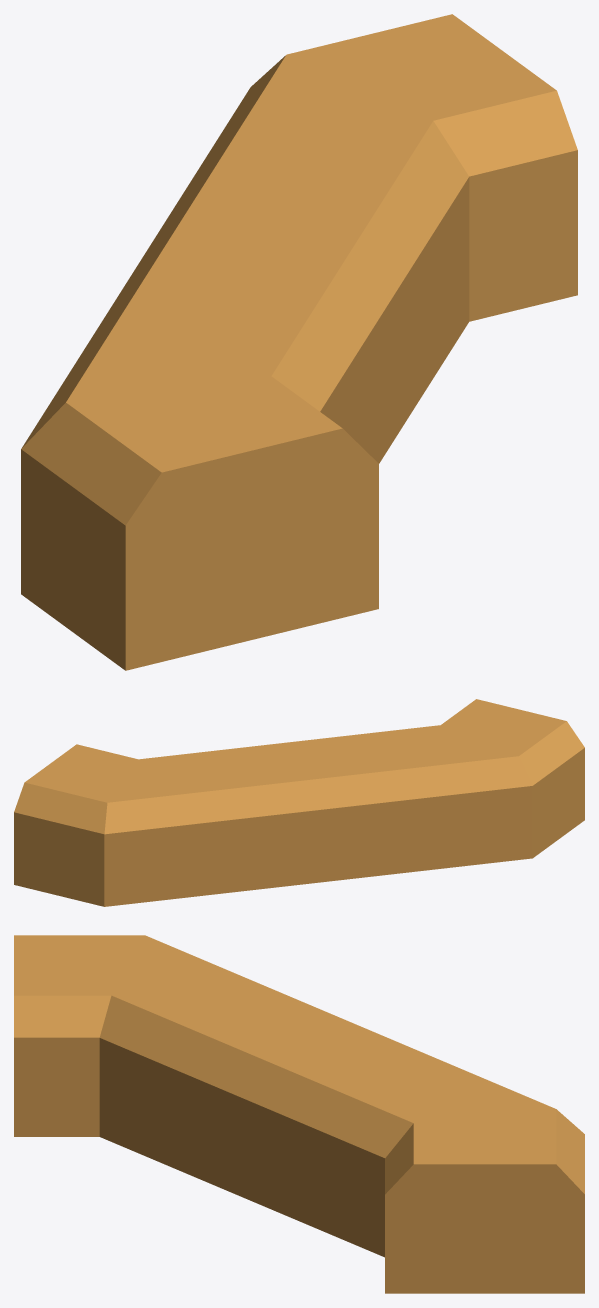
File: rim_corner.glb
3 views of the same model, one above another, from view 1: azimuth 30°, elevation 25°; view 2: azimuth 150°, elevation 25°; view 3: azimuth 270°, elevation 25° (orthographic). The views are drawn at different scales.
Bounding box in the file's own units: 1.2 × 0.3 × 1.2.
